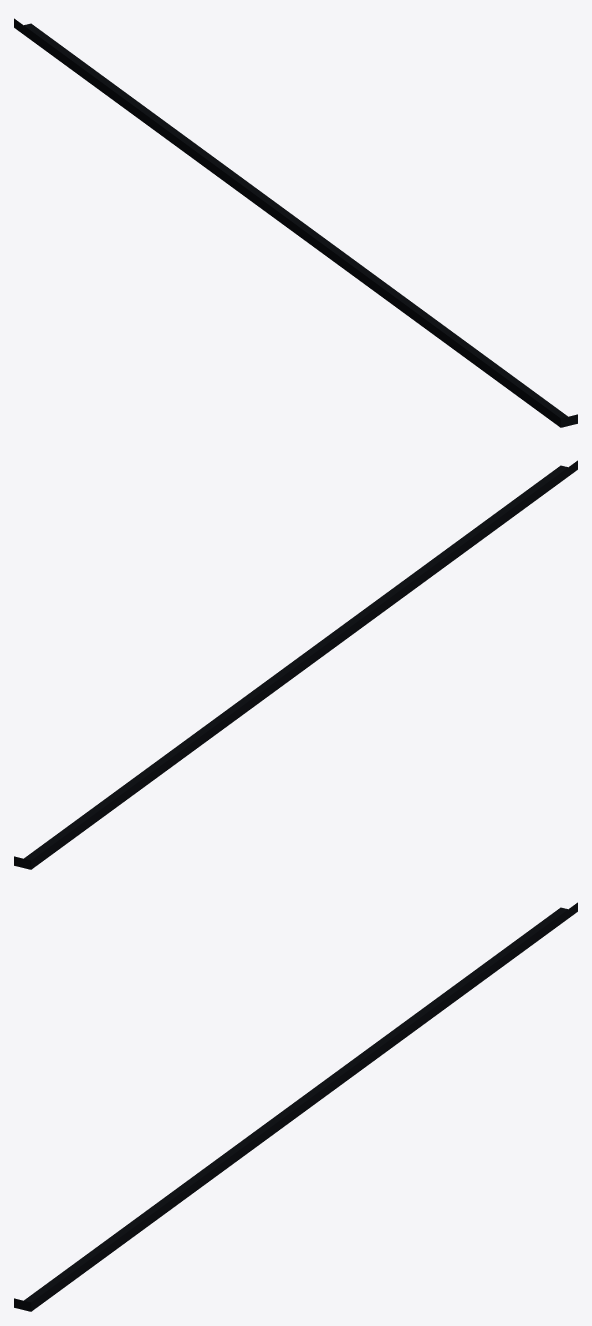
The model's file is tt_struct_slot_wall_f2.glb.
The picture shows the model from 3 angles, top to bottom: view 1: azimuth 30°, elevation 25°; view 2: azimuth 150°, elevation 25°; view 3: azimuth 330°, elevation 25°; orthographic projection.
Visible parts, largest first — view 1: Slot_Base_Trim; view 2: Slot_Base_Trim; view 3: Slot_Base_Trim.
Part boxes in pixels (x1,y1,x2,y2): Slot_Base_Trim: [14, 18, 577, 427]; Slot_Base_Trim: [14, 460, 577, 869]; Slot_Base_Trim: [14, 902, 577, 1311].
Size of what is drawn, in the model's own units: 0.192 by 0.1 by 10.59.
1 material, 1 textured.
